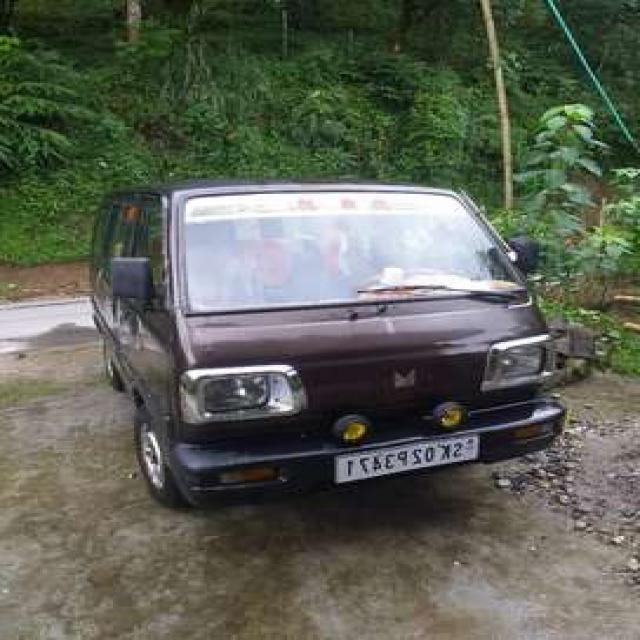license_plate: (326, 425, 486, 489)
